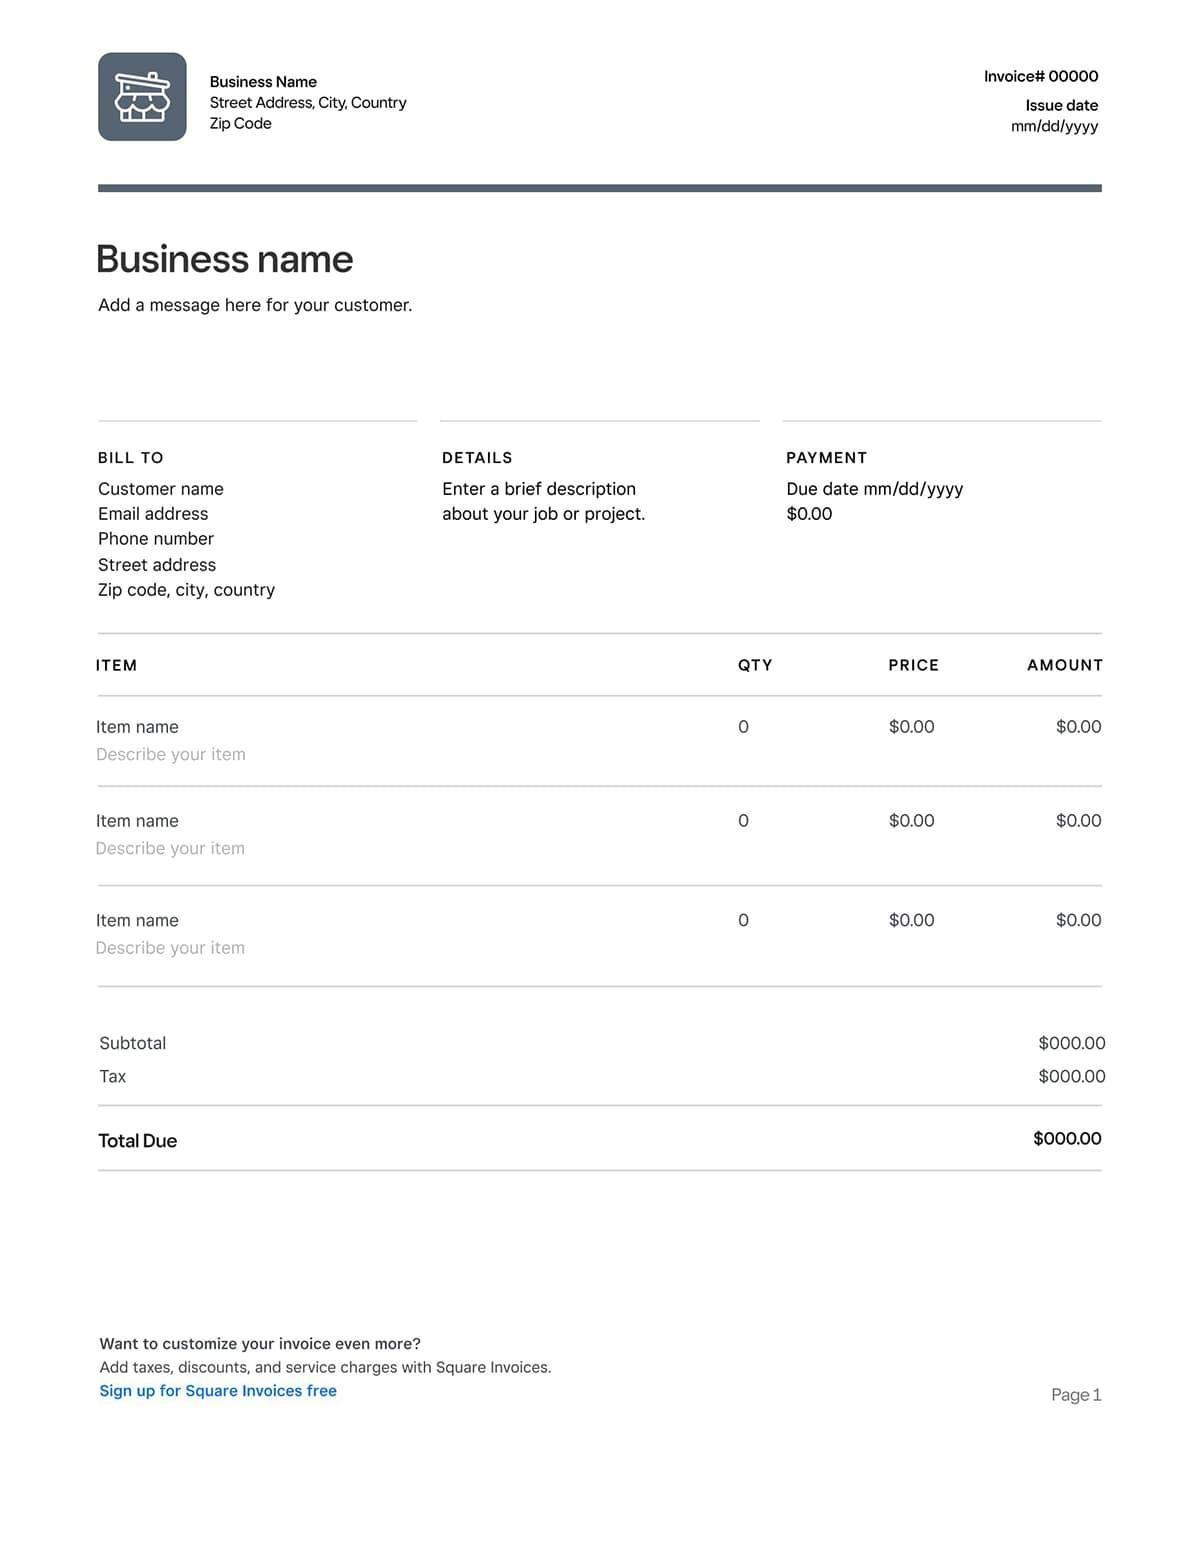ROI: (89, 633, 1109, 990), (96, 1029, 1107, 1170), (84, 441, 310, 615), (771, 437, 1059, 563), (199, 54, 432, 153), (953, 53, 1108, 154)
